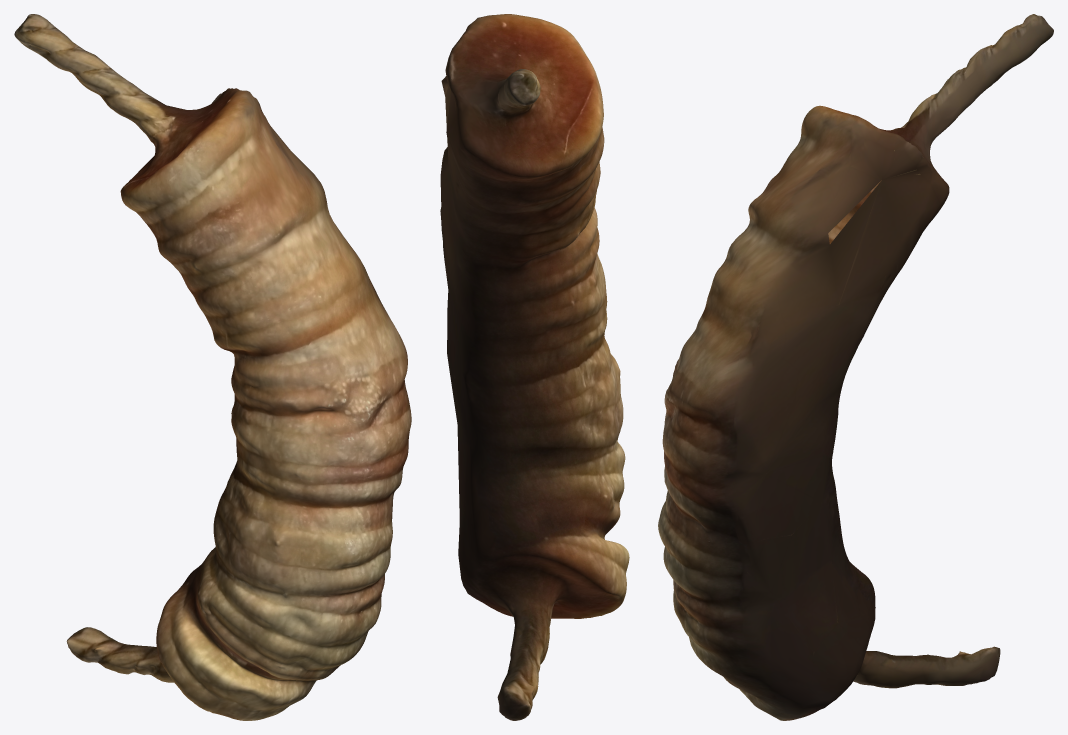
File: subject4.glb
The picture shows the model from 3 angles, left to right: view 1: azimuth 30°, elevation 25°; view 2: azimuth 150°, elevation 25°; view 3: azimuth 270°, elevation 25°; orthographic projection. The views are drawn at different scales.
Visible parts, largest first — view 1: Node1; view 2: Node1; view 3: Node1.
Part boxes in pixels (x1=…): Node1: x1=14, y1=14, x2=411, y2=720; Node1: x1=440, y1=14, x2=629, y2=720; Node1: x1=658, y1=14, x2=1053, y2=720.
Size of the model in its own units: 0.3905 by 0.9984 by 0.5535.
Materials: 1 (1 with a texture image).
